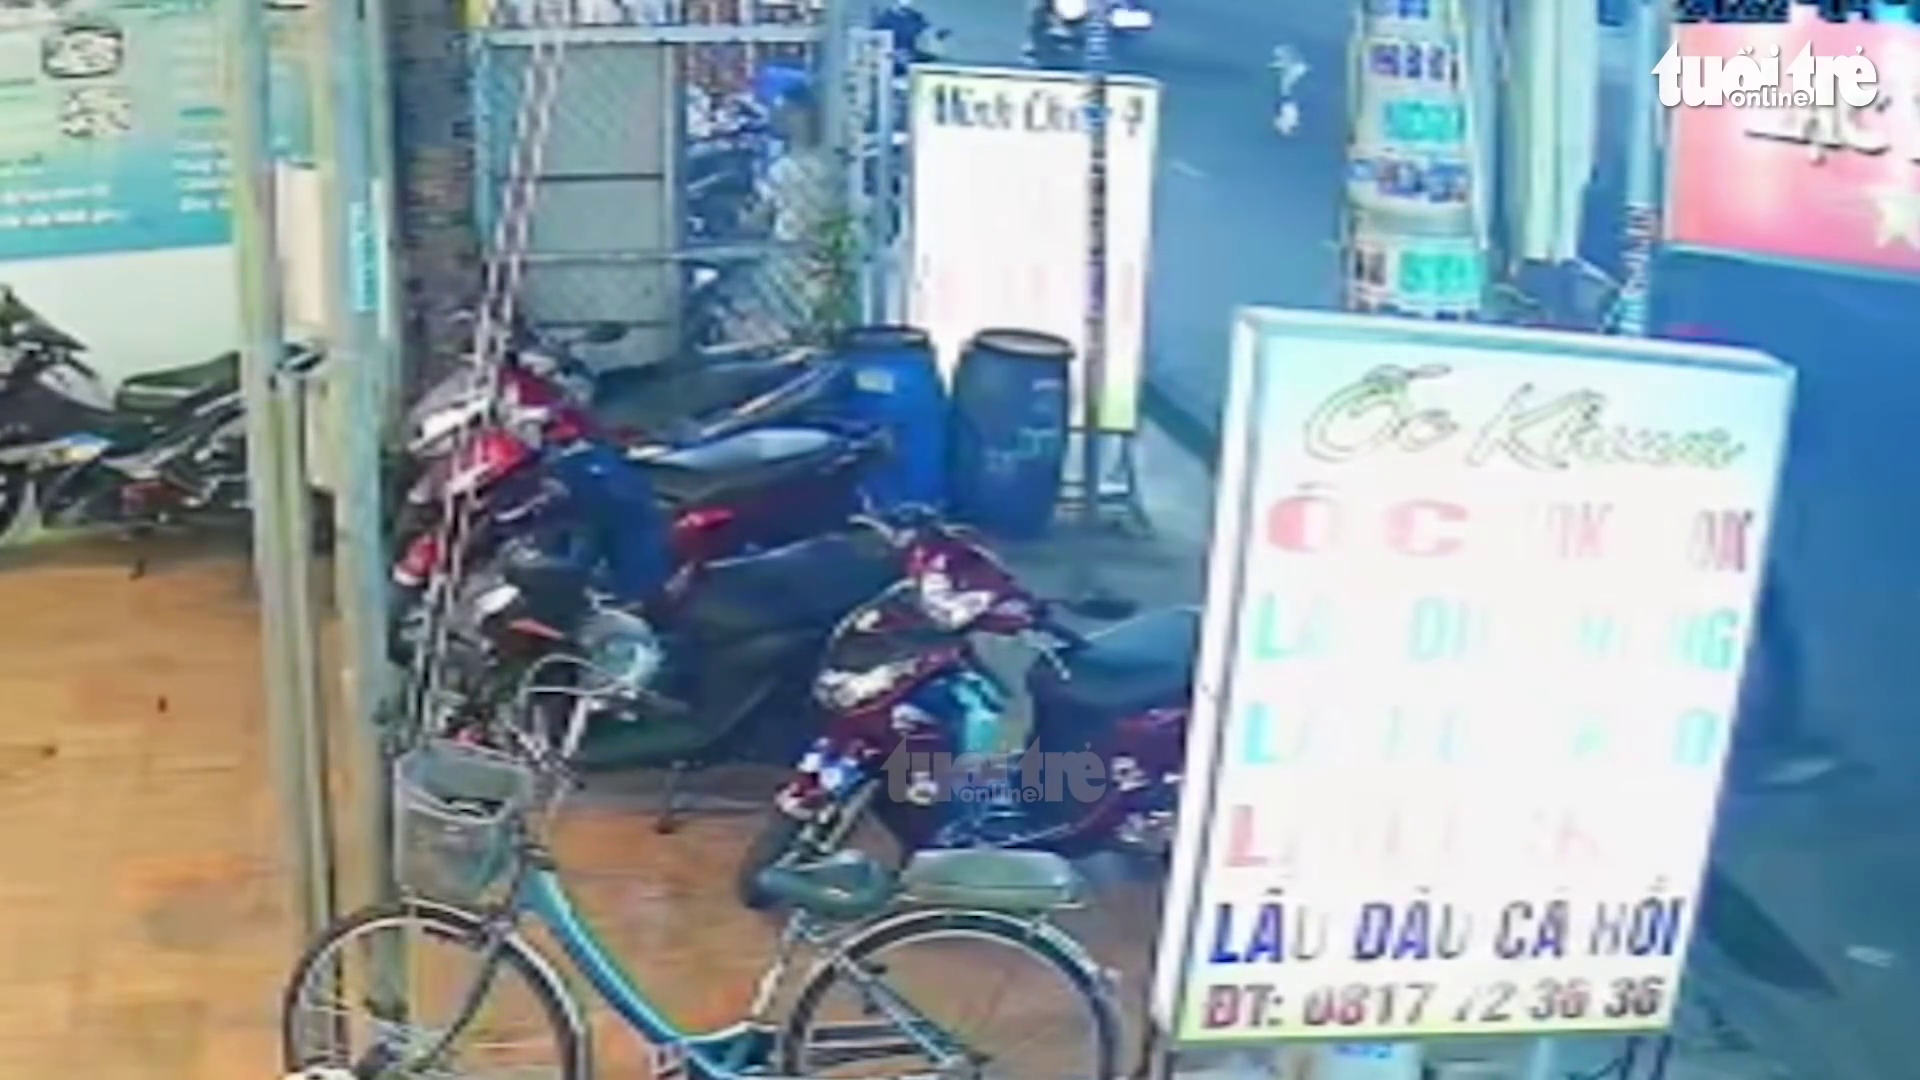Motorcycle: (738, 514, 1204, 901), (430, 512, 911, 781), (393, 402, 895, 607), (0, 286, 251, 566)
